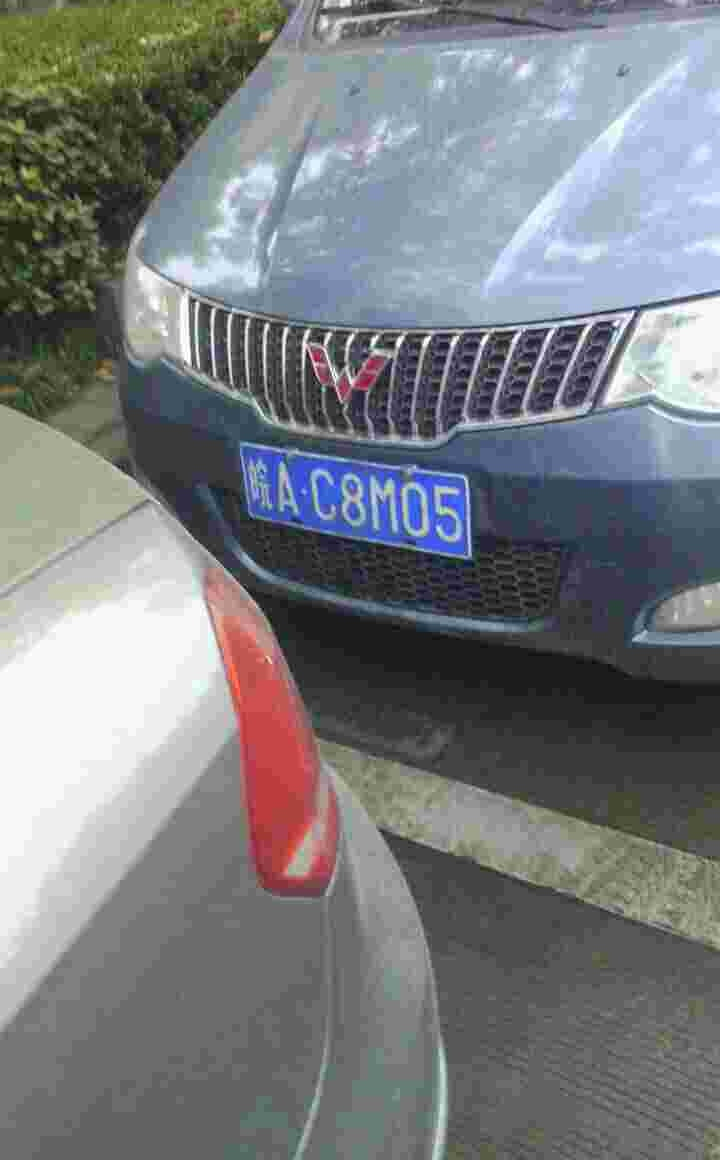car: (233, 440, 484, 544)
